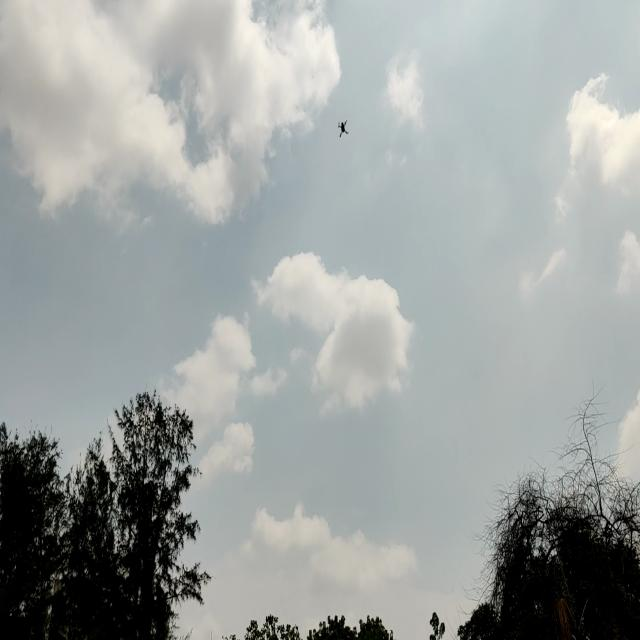drone: (332, 117, 357, 150)
